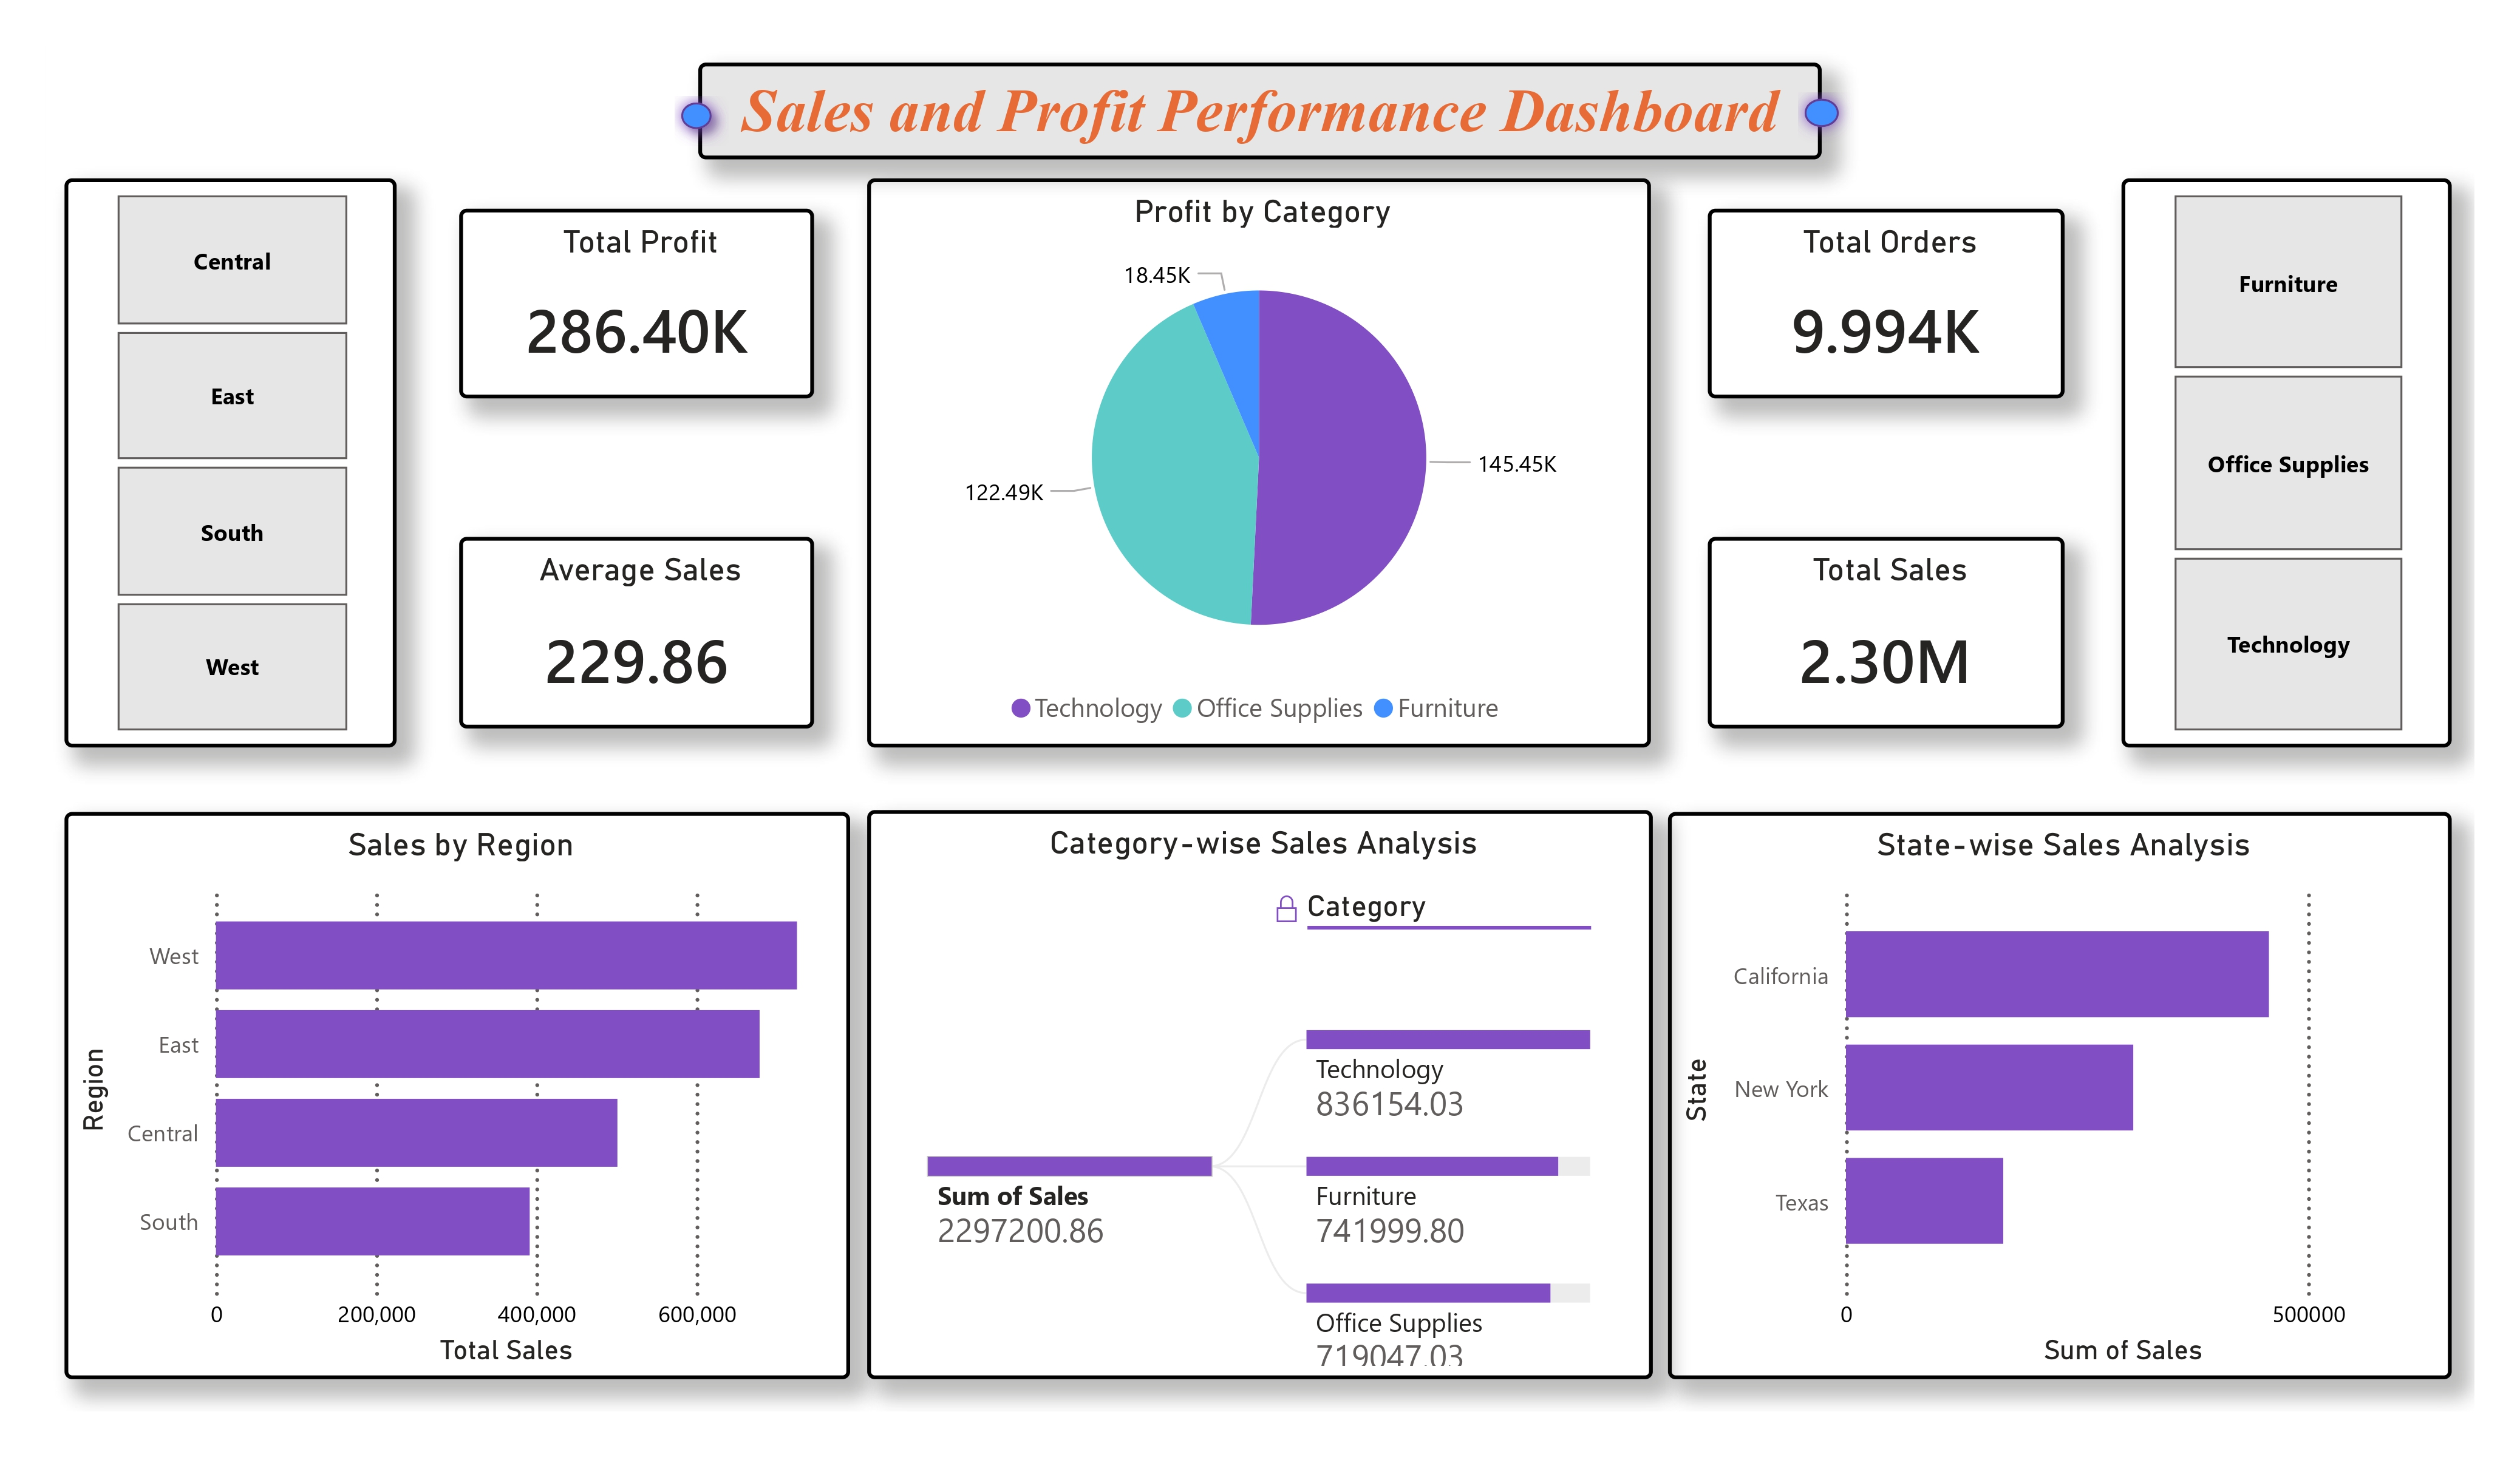

Layout of this report page (visuals, bound fields, positions):
{"tool":"powerbi","page":{"name":"Page 1","canvas":[1280,720],"ordinal":0},"visuals":[{"type":"cardVisual","title":"Average Sales","fields":{"Data":["Avg(SampleSuperstore.Sales)"]},"box":[217.5,258.8,187.5,101.2],"z":0},{"type":"cardVisual","title":"Total Sales","fields":{"Data":["Sum(SampleSuperstore.Sales)"]},"box":[876.2,258.8,187.5,101.2],"z":1000},{"type":"cardVisual","title":"Total Profit","fields":{"Data":["Sum(SampleSuperstore.Profit)"]},"box":[217.5,86.2,187.5,100],"z":2000},{"type":"cardVisual","title":"Total Orders","fields":{"Data":["CountNonNull(SampleSuperstore.Category)"]},"box":[876.2,86.2,187.5,100],"z":3000},{"type":"clusteredBarChart","title":"Sales by Region","fields":{"Category":["SampleSuperstore.Region"],"Y":["Sum(SampleSuperstore.Sales)"]},"box":[10.5,403.6,413,299.8],"z":4000},{"type":"pieChart","title":"Profit by Category","fields":{"Category":["SampleSuperstore.Category"],"Y":["Sum(SampleSuperstore.Profit)"]},"box":[432.5,70,413.8,300],"z":5000},{"type":"barChart","title":"State-wise Sales Analysis","fields":{"Category":["SampleSuperstore.State"],"Y":["Sum(SampleSuperstore.Sales)"]},"box":[855.4,403.6,413,299.8],"z":6000},{"type":"slicer","fields":{"Values":["SampleSuperstore.Region"]},"box":[10,70,175,300],"z":7000},{"type":"slicer","fields":{"Values":["SampleSuperstore.Category"]},"box":[1093.8,70,173.8,300],"z":8000},{"type":"decompositionTreeVisual","title":"Category-wise Sales Analysis","fields":{"ExplainBy":["SampleSuperstore.Category"],"Analyze":["Sum(SampleSuperstore.Sales)"]},"box":[432.6,403.5,414,300],"z":9000},{"type":"textbox","box":[343.8,8.8,592.5,51.2],"z":10000},{"type":"shape","box":[918.8,20,33.8,31.2],"z":11000},{"type":"shape","box":[326.2,21.2,33.8,31.2],"z":12000}]}

Visuals, with their boxes in screenshot pixels (x1, y1, x2, y2):
"Average Sales" cardVisual: pyautogui.locateOnScreen(466, 531, 817, 720)
"Total Sales" cardVisual: pyautogui.locateOnScreen(1700, 531, 2051, 720)
"Total Profit" cardVisual: pyautogui.locateOnScreen(466, 207, 817, 395)
"Total Orders" cardVisual: pyautogui.locateOnScreen(1700, 207, 2051, 395)
"Sales by Region" clusteredBarChart: pyautogui.locateOnScreen(79, 801, 852, 1363)
"Profit by Category" pieChart: pyautogui.locateOnScreen(869, 177, 1644, 739)
"State-wise Sales Analysis" barChart: pyautogui.locateOnScreen(1661, 801, 2434, 1363)
slicer - SampleSuperstore.Region: pyautogui.locateOnScreen(78, 177, 406, 739)
slicer - SampleSuperstore.Category: pyautogui.locateOnScreen(2108, 177, 2433, 739)
"Category-wise Sales Analysis" decompositionTreeVisual: pyautogui.locateOnScreen(869, 801, 1644, 1363)
textbox: pyautogui.locateOnScreen(703, 63, 1813, 158)
shape: pyautogui.locateOnScreen(1780, 83, 1843, 142)
shape: pyautogui.locateOnScreen(670, 86, 734, 144)
